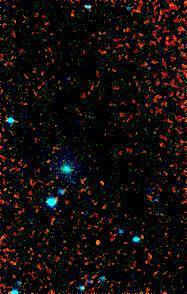star: (82, 227, 112, 257)
